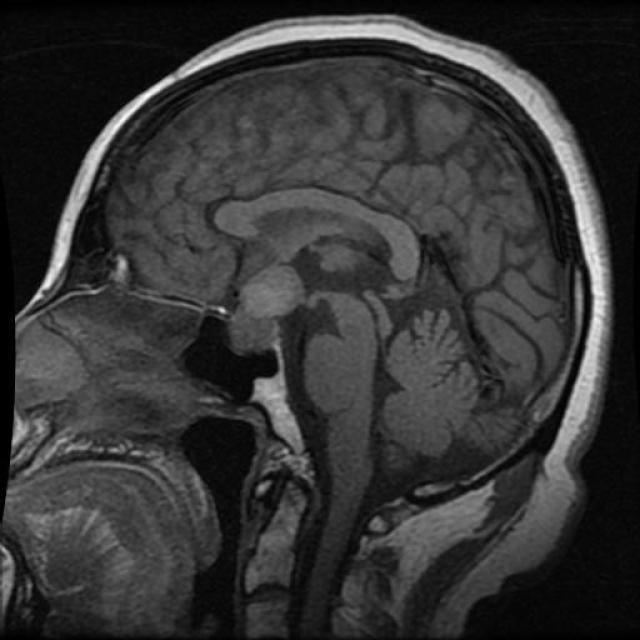pituitary: (221, 257, 317, 379)
